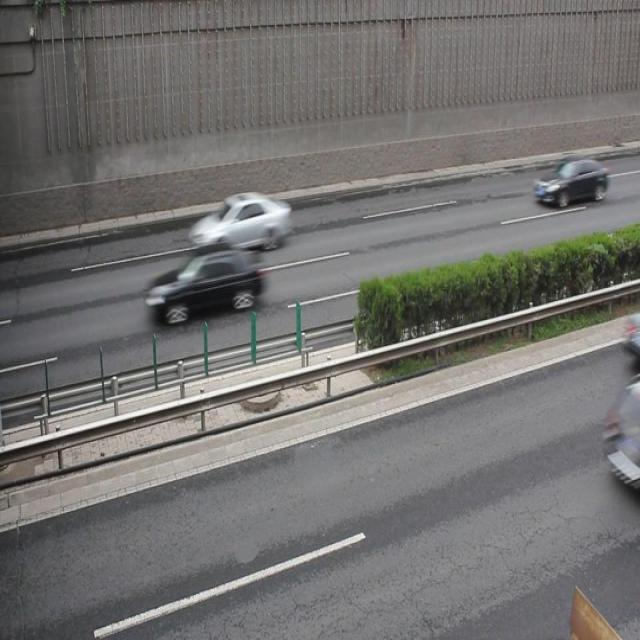car: (145, 246, 268, 324), (189, 187, 290, 249), (532, 156, 609, 210)
